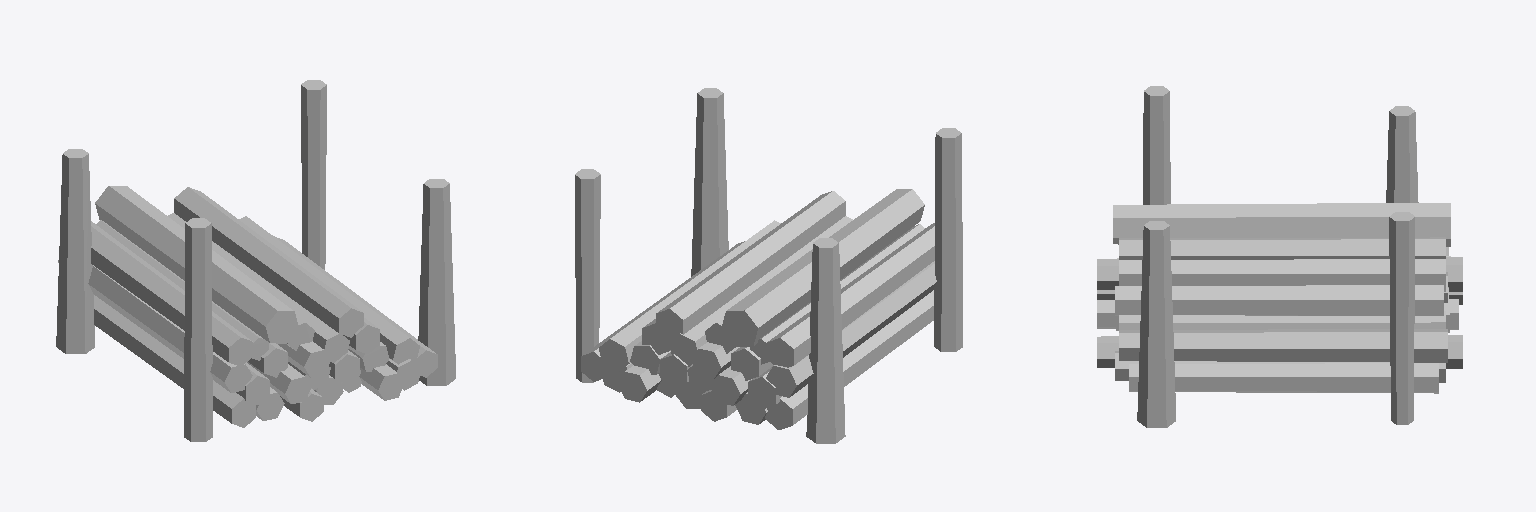
The model's file is log_001.obj.
The picture shows the model from 3 angles: view 1: azimuth 30°, elevation 25°; view 2: azimuth 150°, elevation 25°; view 3: azimuth 270°, elevation 25°; orthographic projection.
Visible parts, largest first — view 1: log_001; view 2: log_001; view 3: log_001.
Boxes of the visible parts, <box> form: log_001: <box>56,80,455,441</box>; log_001: <box>575,88,962,443</box>; log_001: <box>1097,86,1462,427</box>.
Bounding box in the file's own units: 2.37 × 1.81 × 2.82.